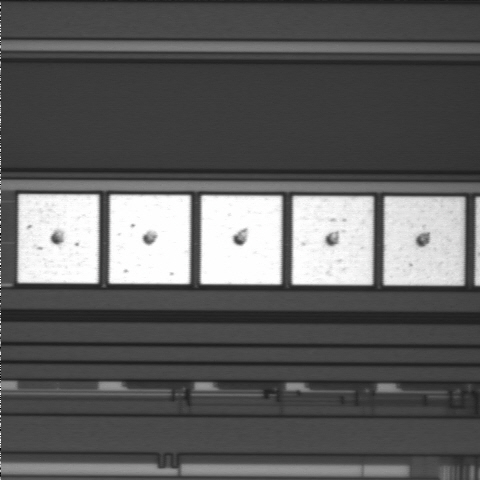pad: (109, 195, 191, 284), (200, 195, 282, 284), (18, 194, 99, 283), (292, 196, 373, 285), (384, 197, 464, 285)
